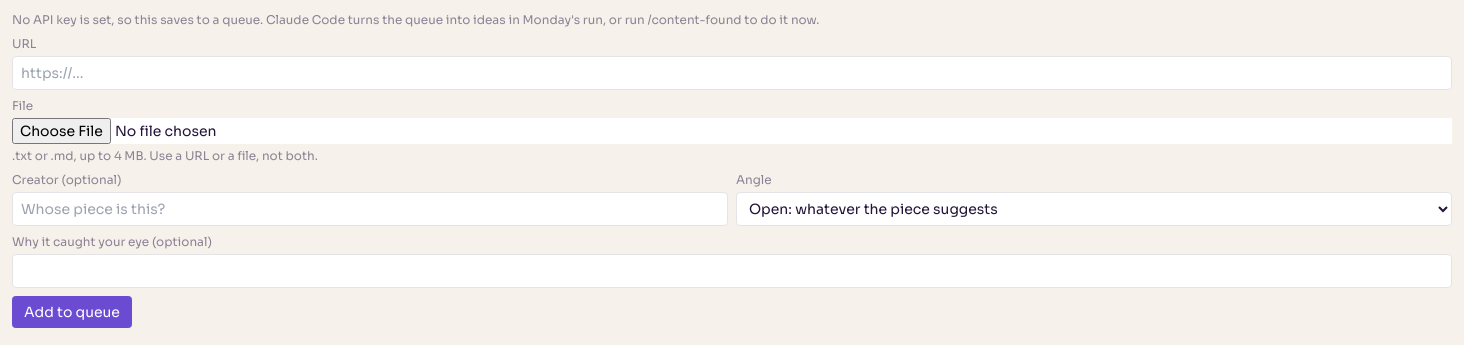
Test: FoundContentForm without an API key (queue mode) › submits to the queue action and shows its message
In the field labelled "URL": x=732, y=73 x1=12 y1=56 x2=1452 y2=90, type "https://example.com/a"
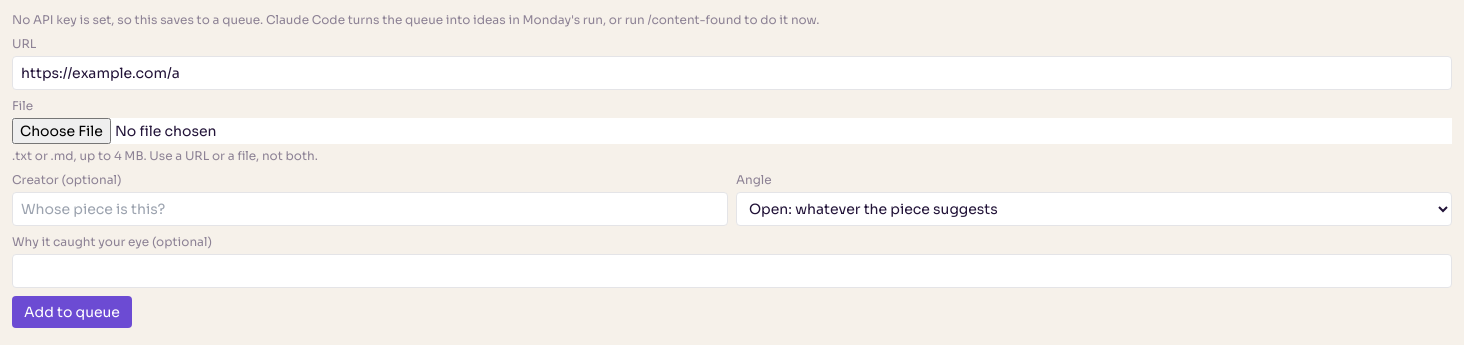
Submit the form named "Add to queue"
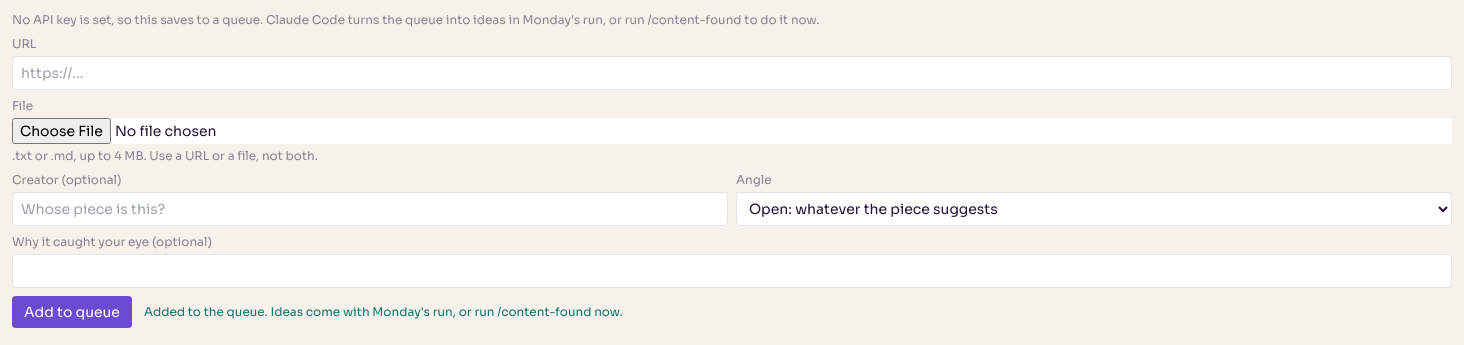
Check: the text "Added to the queue" is shown, box x1=144 y1=304 x2=623 y2=319
